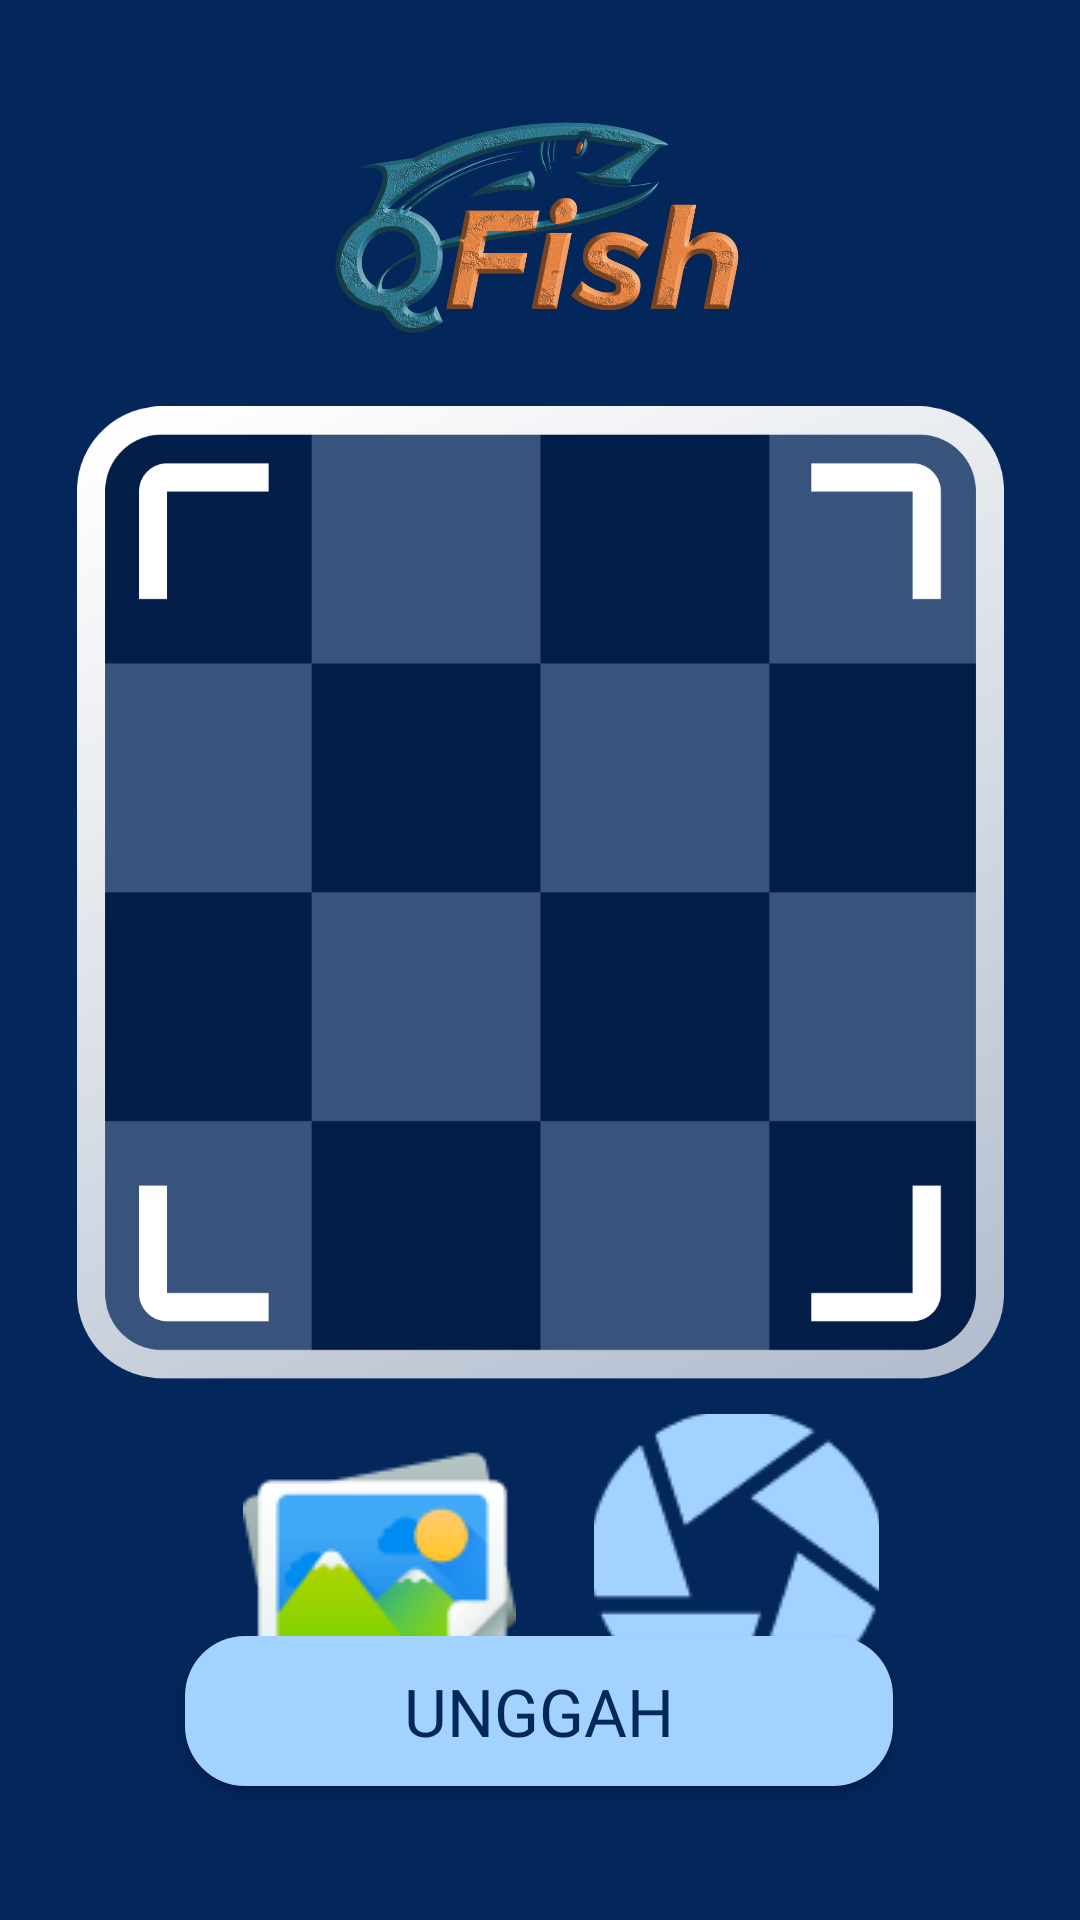

Screen size 1080x1920. Icon name, then its center in pixels as (x=x, y=y):
kamerabutton: (x=736, y=1506)
